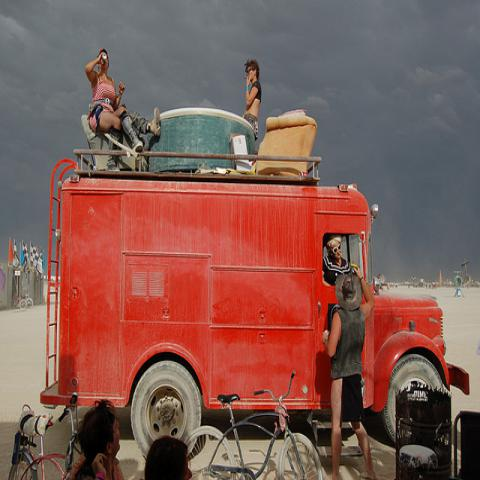truck: (41, 109, 470, 460)
